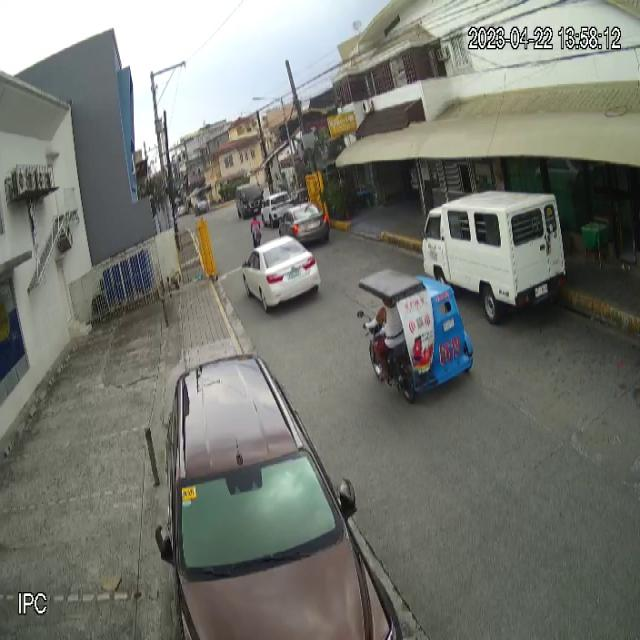Car: (154, 350, 403, 640), (242, 234, 322, 314)
Tricycle: (356, 268, 474, 405)
Van: (421, 188, 568, 325)
